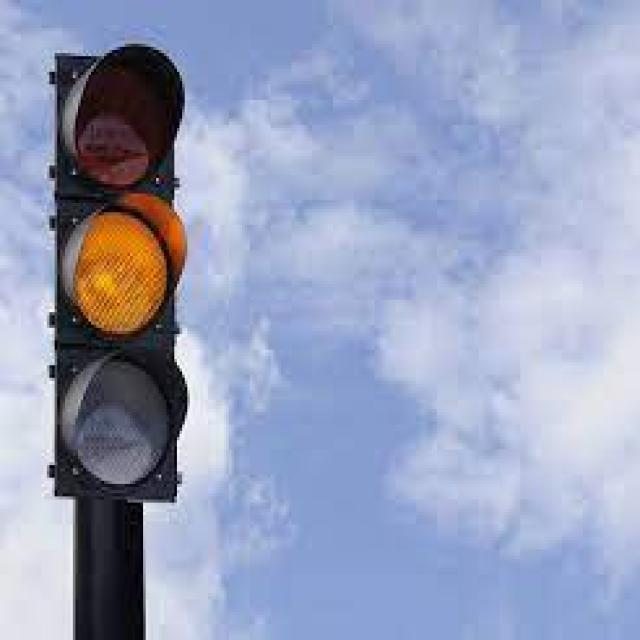yellow_light: (48, 44, 187, 502)
